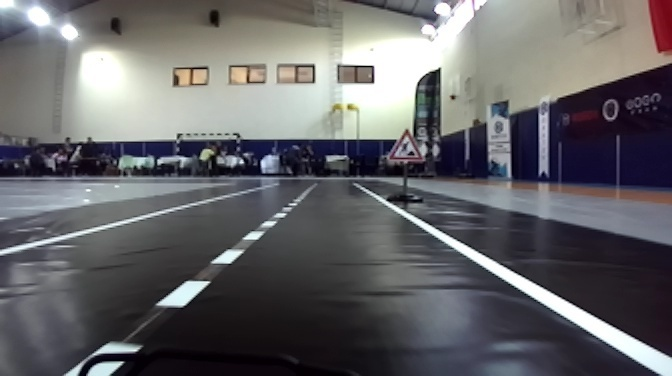yol_yapimi: (383, 127, 427, 165)
